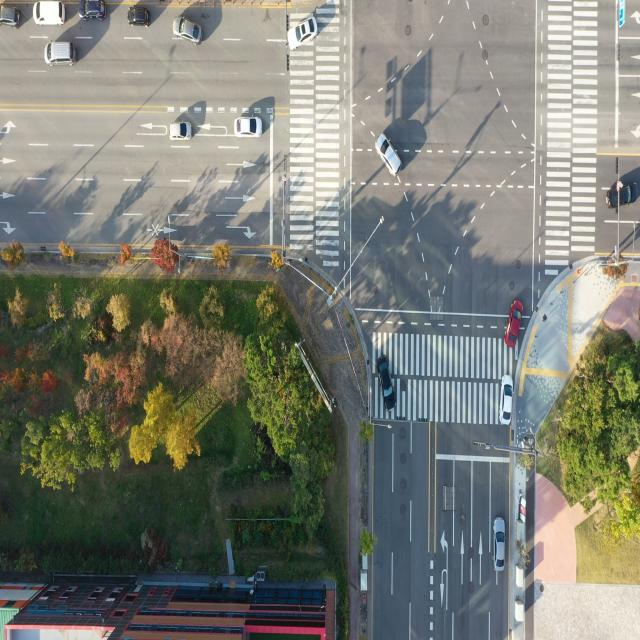car: (285, 11, 318, 53), (378, 353, 399, 410), (374, 132, 402, 172), (606, 176, 637, 211), (508, 298, 527, 345), (33, 0, 64, 28), (498, 372, 514, 426), (492, 519, 507, 575), (174, 18, 202, 46), (45, 38, 76, 62), (76, 0, 106, 21), (0, 1, 21, 27), (235, 116, 262, 136), (131, 4, 152, 27), (170, 123, 192, 143)
